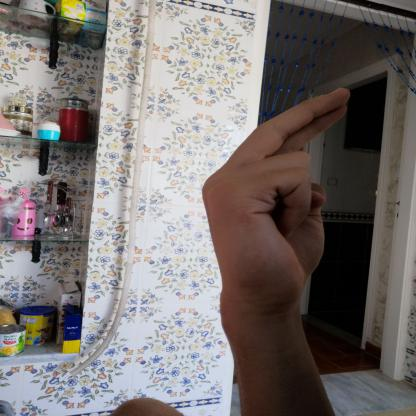ZAY: (188, 76, 365, 324)
